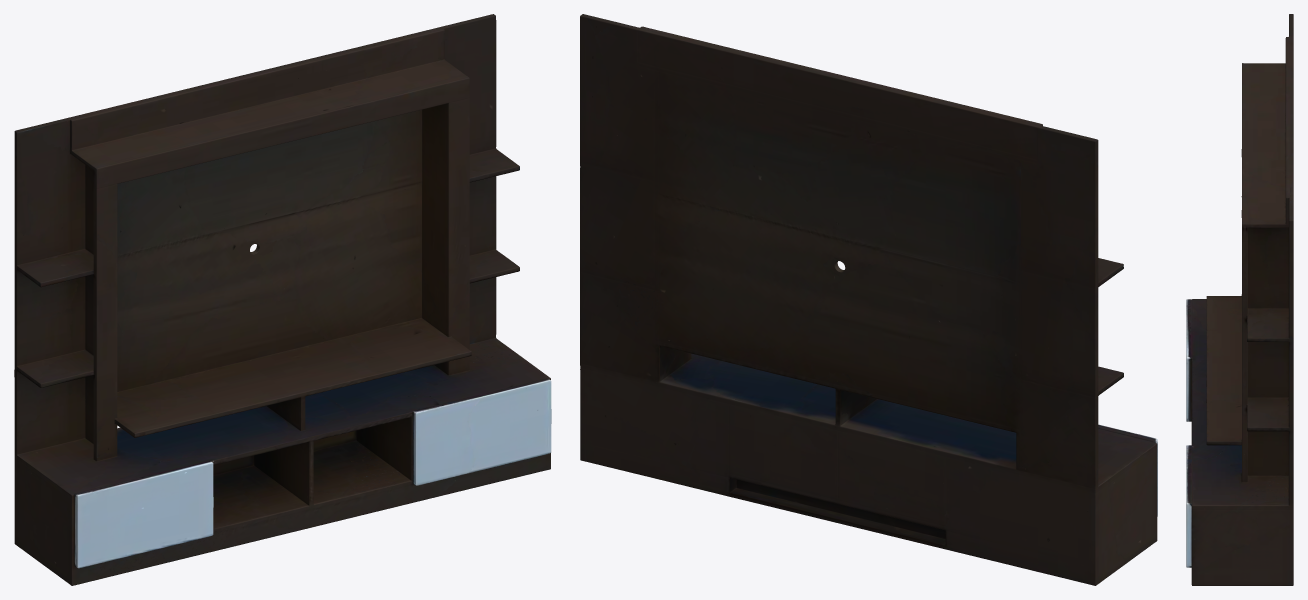
Rendered from modelo.glb.
The picture shows the model from 3 angles, left to right: view 1: azimuth 30°, elevation 25°; view 2: azimuth 150°, elevation 25°; view 3: azimuth 270°, elevation 25°; orthographic projection. The views are drawn at different scales.
Parts seen in each view (by area): view 1: node_0; view 2: node_0; view 3: node_0.
Boxes of the visible parts, x1,y1,x2,y2 form: node_0: (14, 14, 551, 585); node_0: (580, 14, 1157, 585); node_0: (1186, 14, 1293, 585).
Bounding box in the file's own units: 0.9143 × 0.7538 × 0.2007.
Materials: 1 (1 with a texture image).
